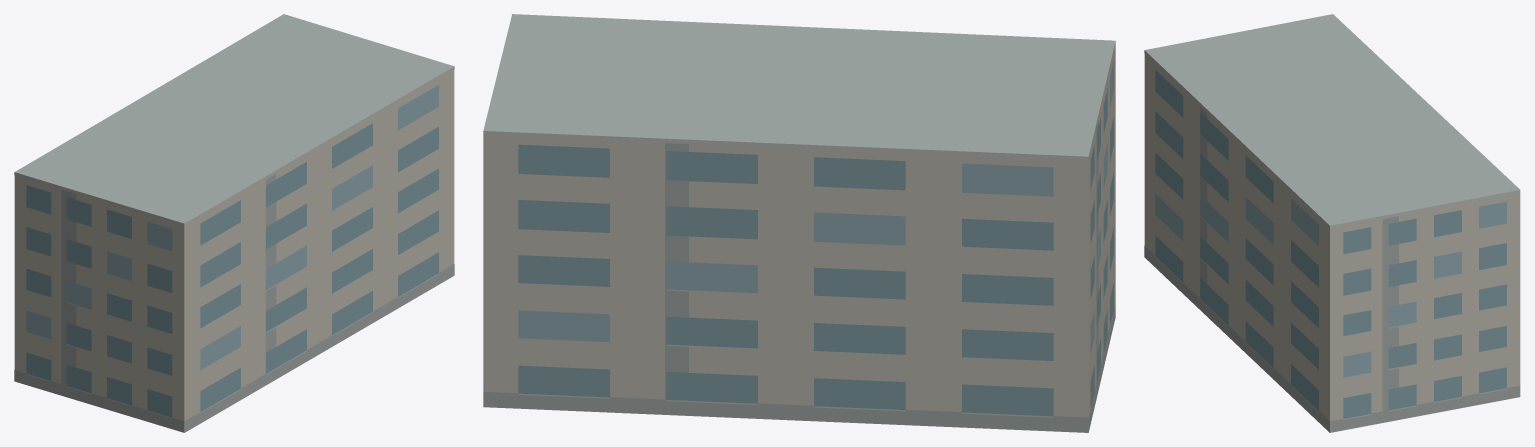
File: survey-upis-32709131.glb
3 views of the same model, side by side, from view 1: azimuth 30°, elevation 25°; view 2: azimuth 150°, elevation 25°; view 3: azimuth 270°, elevation 25° (orthographic). The views are drawn at different scales.
Visible parts, largest first — view 1: survey-upis-32709131.tmp; view 2: survey-upis-32709131.tmp; view 3: survey-upis-32709131.tmp.
Part boxes in pixels (left/top/right/bottom): survey-upis-32709131.tmp: left=14, top=14, right=454, bottom=432; survey-upis-32709131.tmp: left=483, top=14, right=1115, bottom=432; survey-upis-32709131.tmp: left=1144, top=14, right=1520, bottom=432.
Size of the model in its own units: 33.43 by 15.25 by 25.09.
